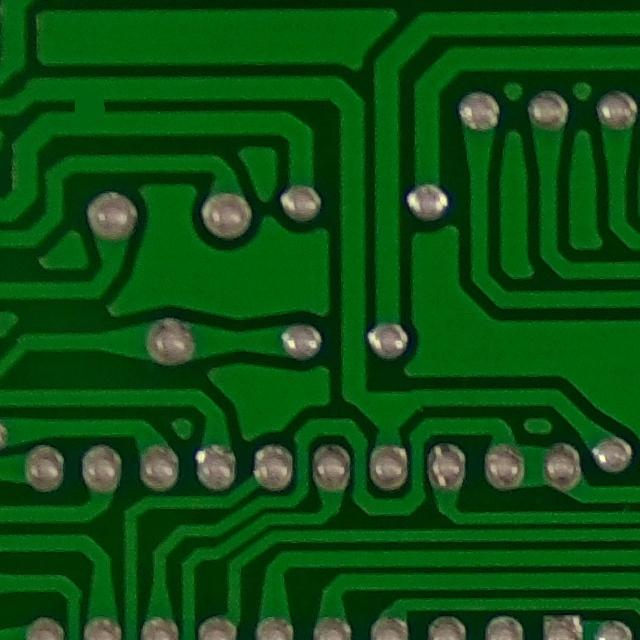short: (60, 75, 124, 143)
